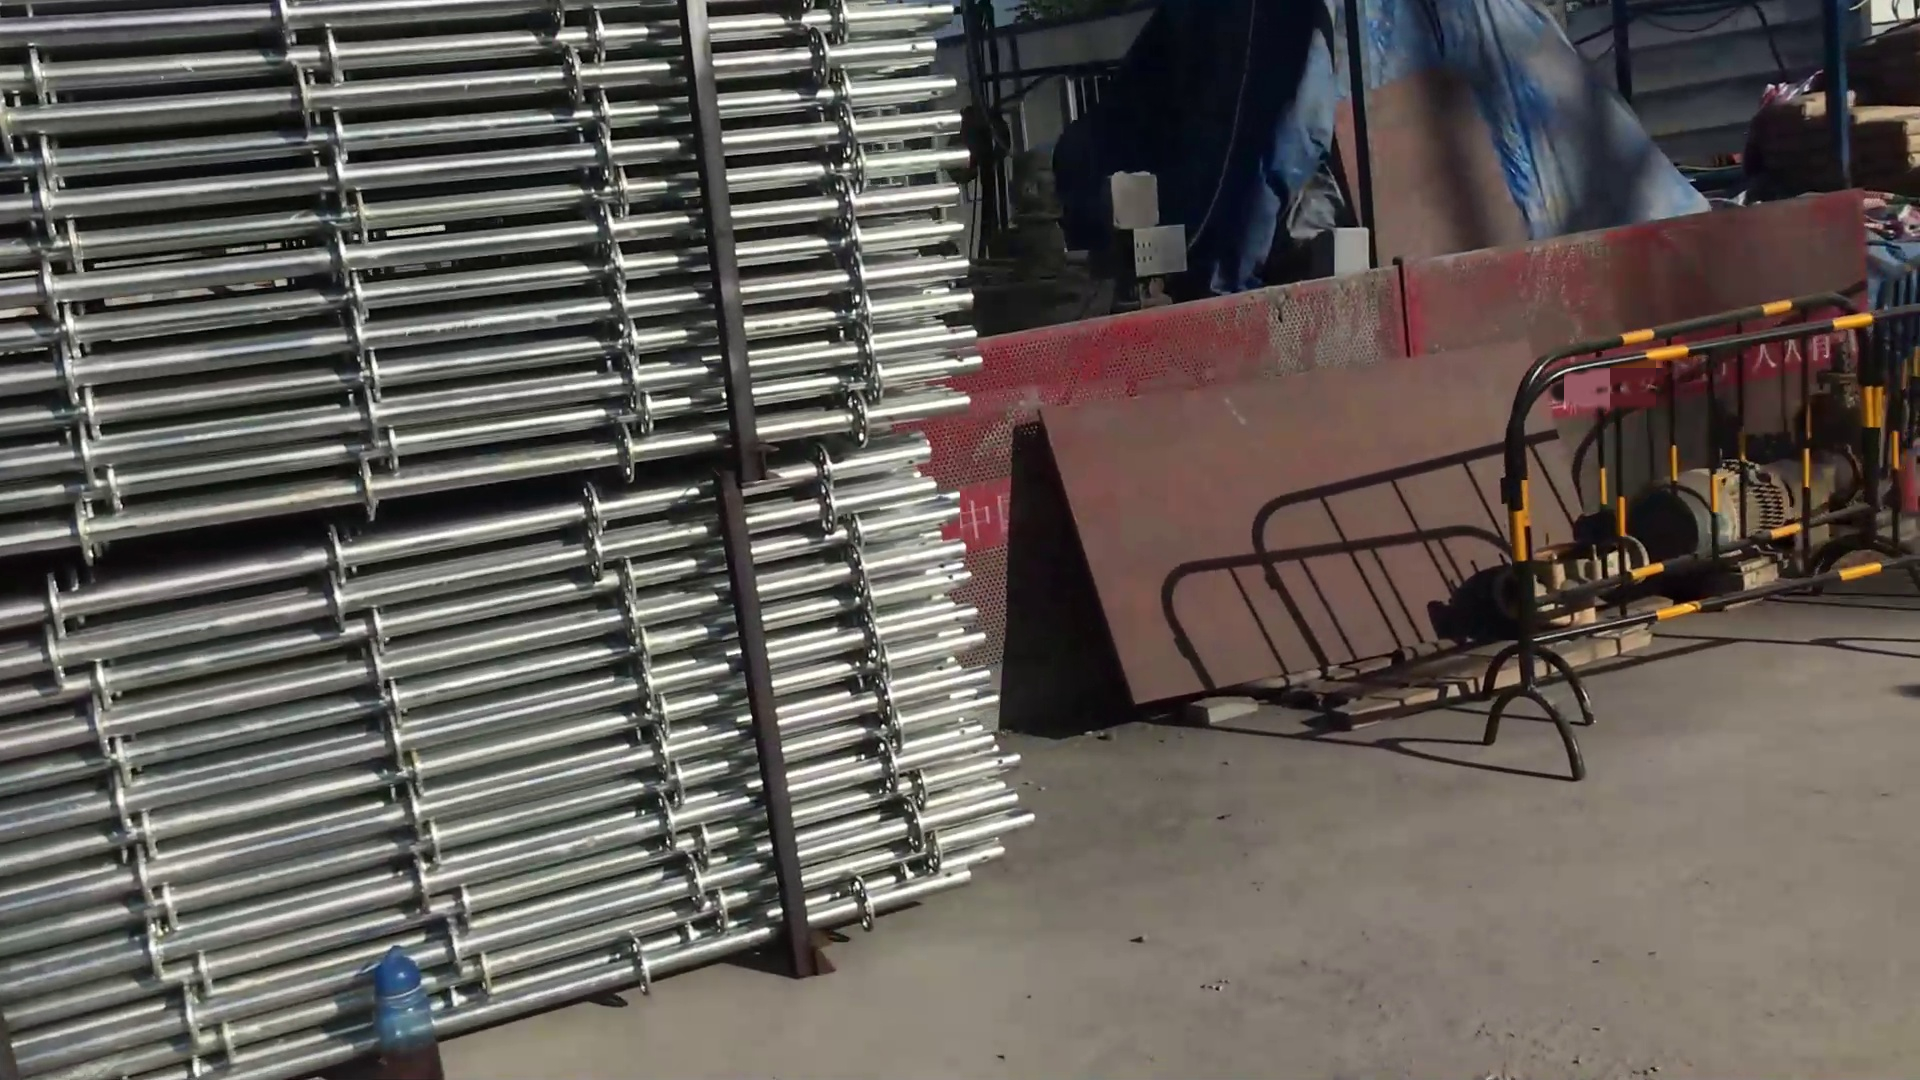fence: (953, 274, 1511, 733), (1502, 309, 1920, 781)
scaffold: (7, 7, 1036, 1069)
